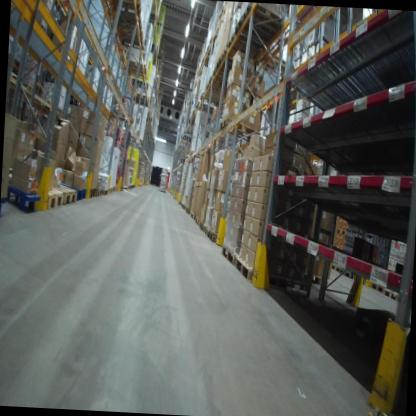pallet: (234, 254, 311, 291), (4, 177, 42, 219), (240, 3, 286, 37), (216, 114, 265, 144), (29, 172, 64, 211), (233, 16, 274, 43), (262, 48, 297, 78), (53, 178, 78, 204), (301, 266, 330, 287), (110, 0, 144, 15), (218, 241, 238, 265), (367, 278, 385, 295), (337, 266, 355, 280), (383, 285, 401, 299), (72, 184, 86, 201), (21, 79, 34, 97), (207, 227, 220, 243), (85, 186, 98, 201), (92, 184, 103, 199), (335, 222, 346, 236), (329, 261, 340, 272), (35, 22, 47, 31), (101, 184, 108, 199), (202, 223, 209, 237), (198, 218, 204, 232), (194, 214, 200, 226), (109, 185, 112, 192)
